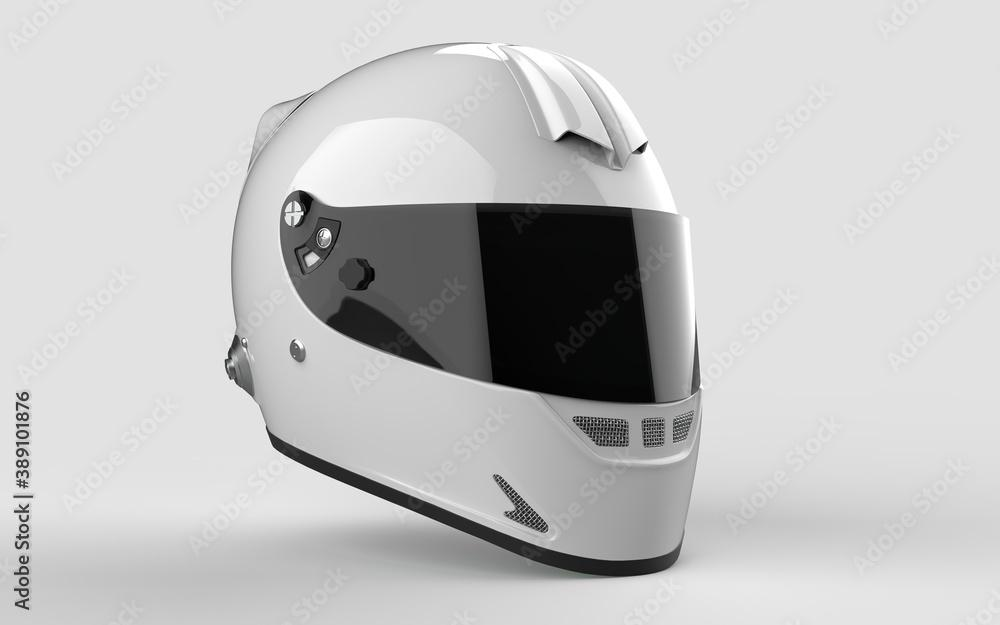helmet: (222, 39, 705, 579)
